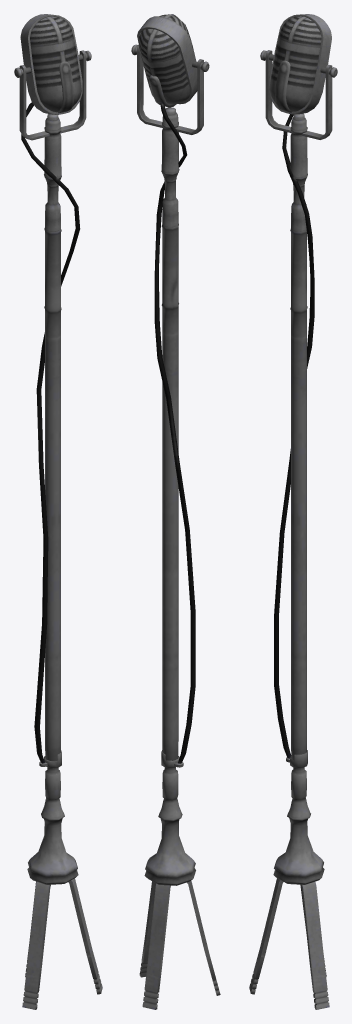
The model's file is Female_Staff_Weapon_Punky_Col0_EquipMesh.fbx.
3 views of the same model, side by side, from view 1: azimuth 30°, elevation 25°; view 2: azimuth 150°, elevation 25°; view 3: azimuth 330°, elevation 25° (orthographic).
Visible parts, largest first — view 1: Female_Staff_Weapon_Punky; view 2: Female_Staff_Weapon_Punky; view 3: Female_Staff_Weapon_Punky.
Boxes of the visible parts, <box> form: Female_Staff_Weapon_Punky: <box>14,14,102,1009</box>; Female_Staff_Weapon_Punky: <box>131,14,220,1009</box>; Female_Staff_Weapon_Punky: <box>249,14,337,1009</box>.
Size of the model in its own units: 0.1683 by 1.94 by 0.144.
Materials: 1 (1 with a texture image).
